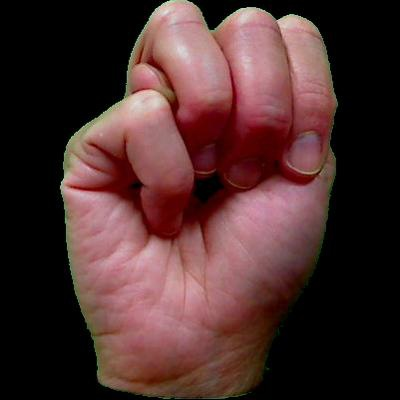m: (1, 7, 400, 400)
